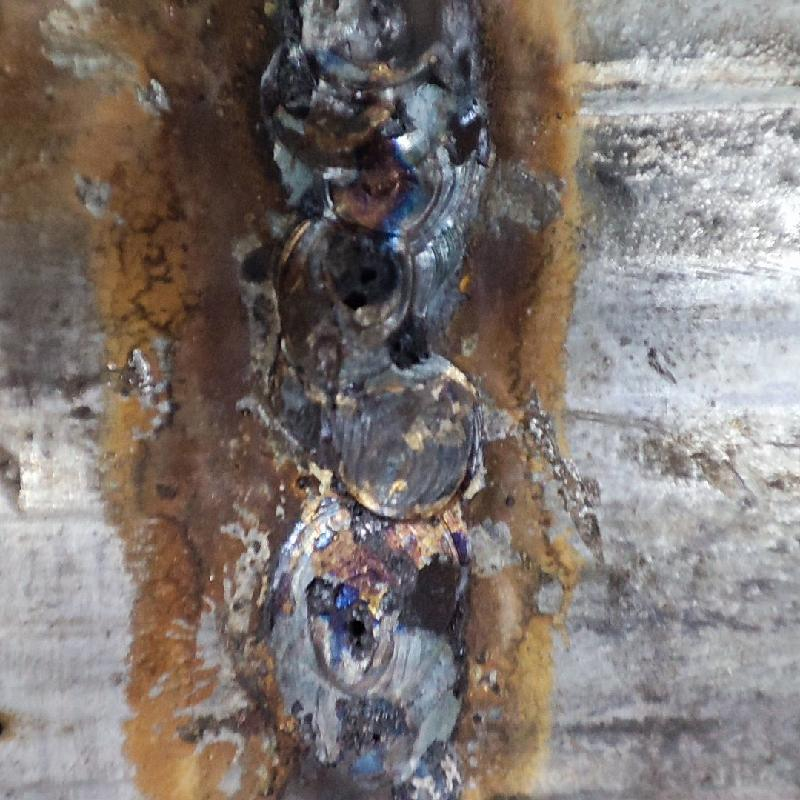Surface_pores: (309, 570, 395, 680)
crater: (251, 0, 472, 510)
